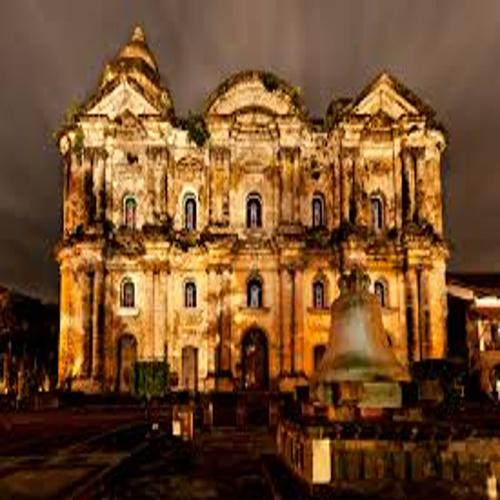Taal Basilica Church: (48, 18, 460, 401)
